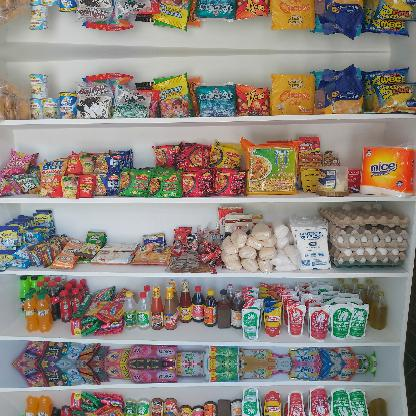Lady-s-Choice: (316, 166, 349, 196)
